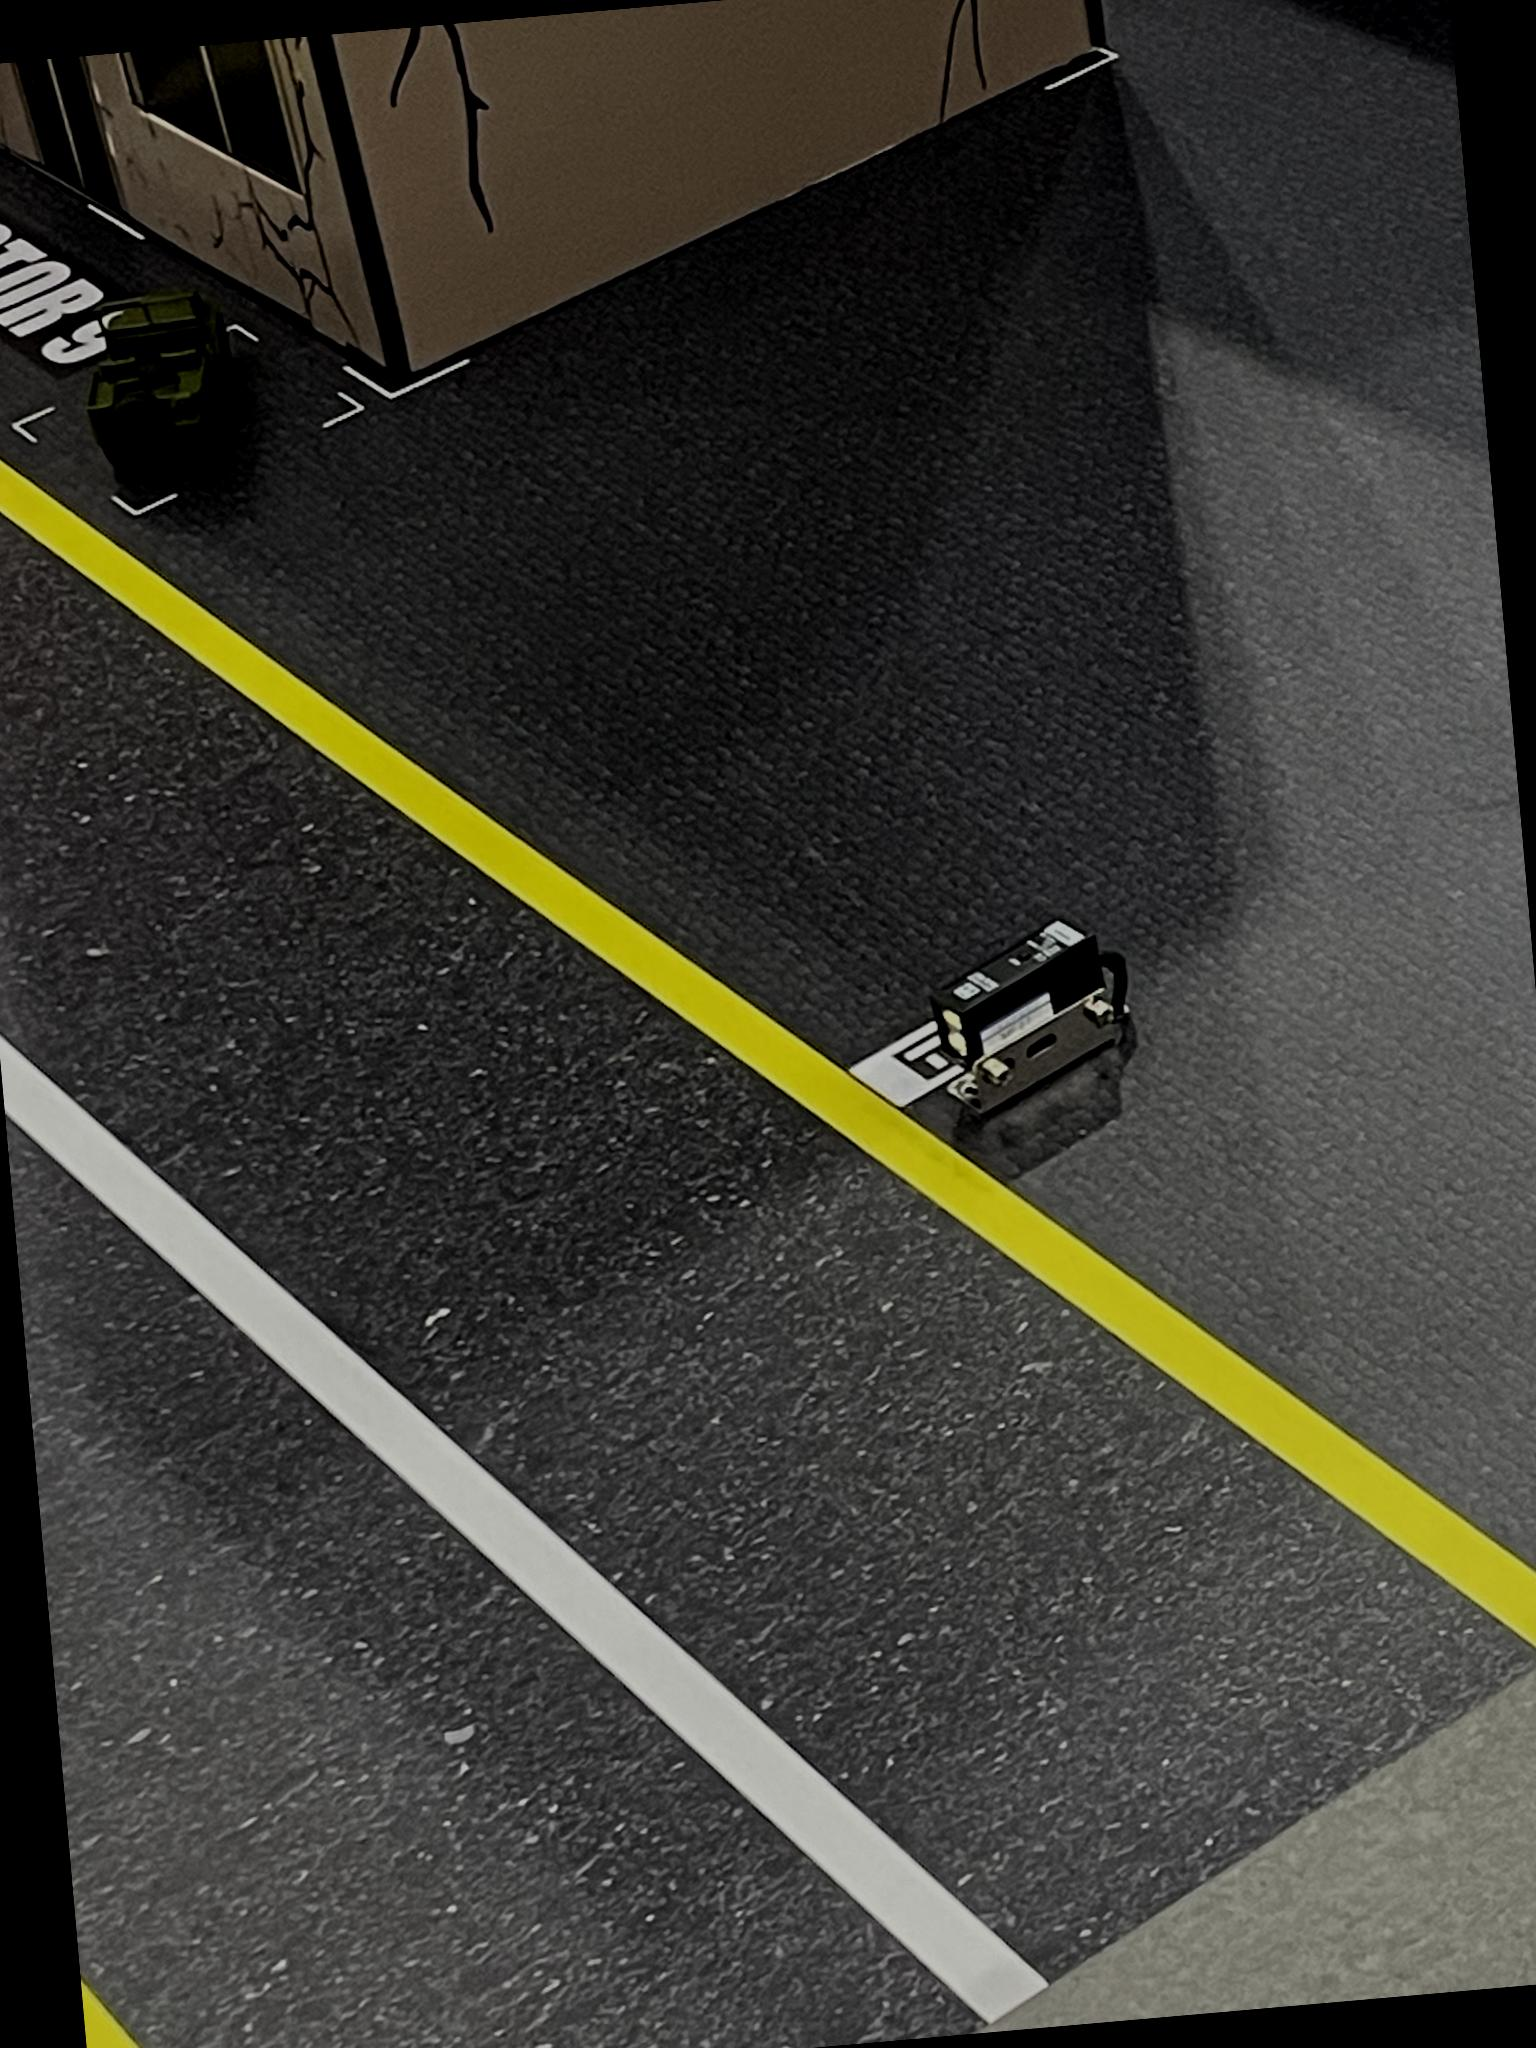Car: (60, 276, 239, 487)
